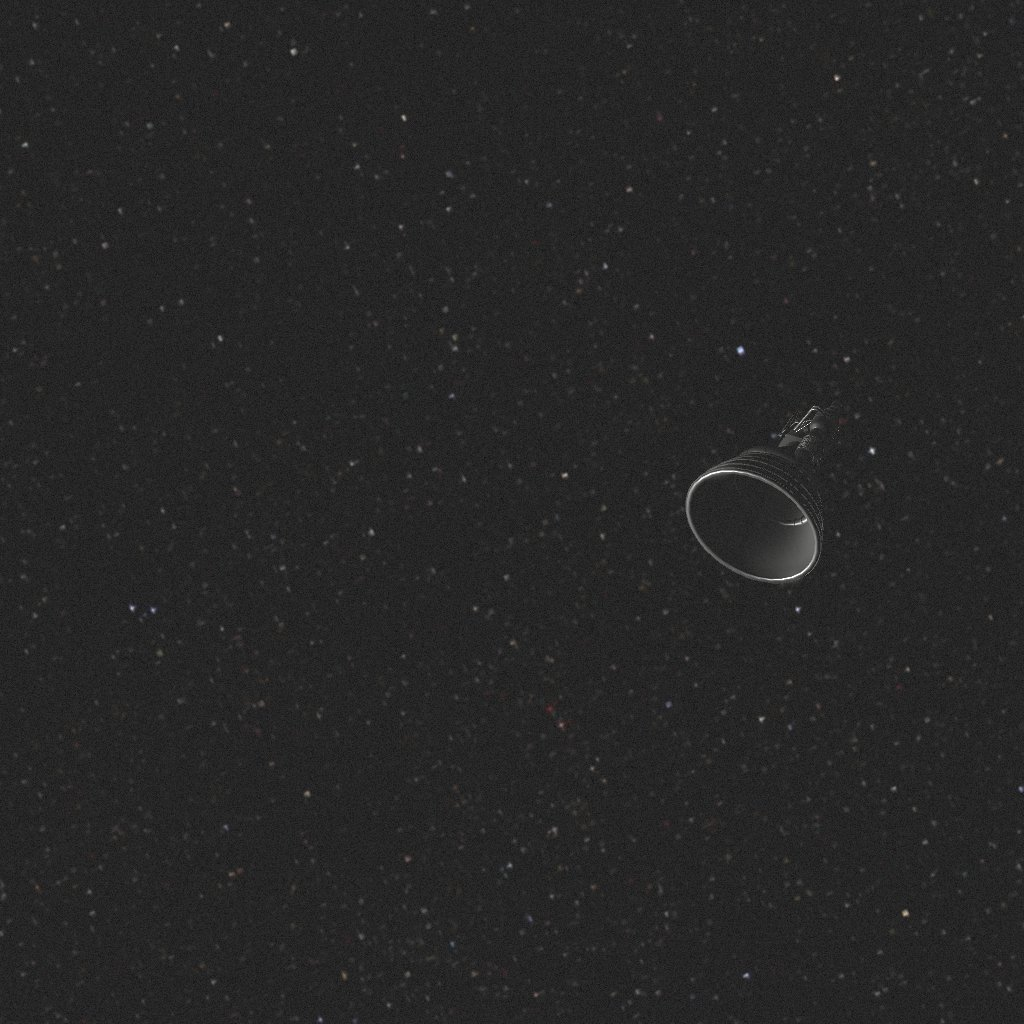debris: (686, 401, 844, 583)
